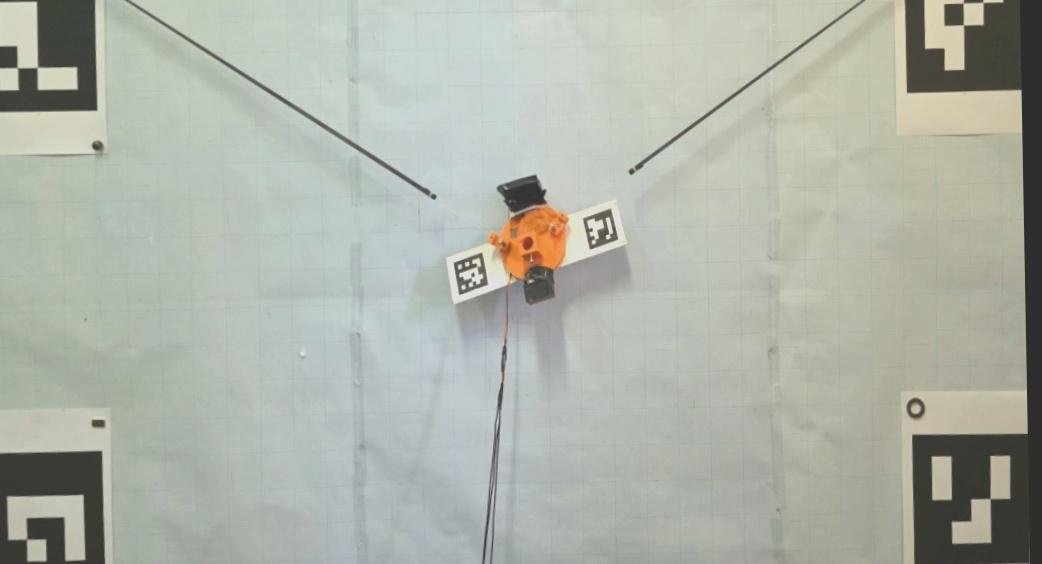robot: (486, 173, 570, 304)
